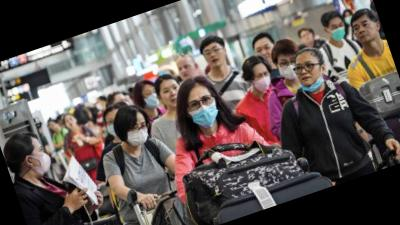mask_weared_incorrect: (292, 55, 326, 89)
with_mask: (183, 91, 224, 134), (29, 143, 55, 177), (123, 120, 153, 149), (275, 53, 302, 85), (251, 69, 276, 96), (103, 114, 126, 141), (141, 85, 164, 111), (327, 20, 350, 44), (343, 12, 358, 27)
without_mask: (350, 16, 382, 46), (158, 81, 187, 111), (203, 42, 229, 71), (254, 40, 278, 66), (175, 59, 198, 82), (301, 29, 317, 47), (63, 116, 79, 132)
